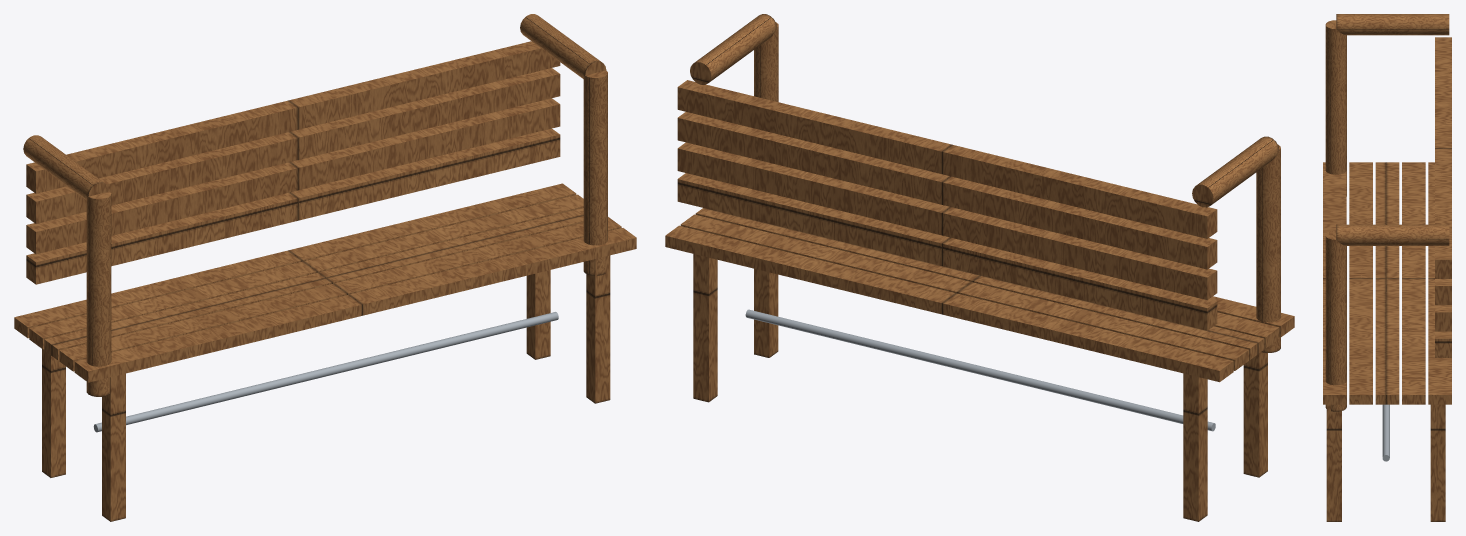
File: Kerti_pad_tamasztott.obj
3 views of the same model, side by side, from view 1: azimuth 30°, elevation 25°; view 2: azimuth 150°, elevation 25°; view 3: azimuth 270°, elevation 25° (orthographic). The views are drawn at different scales.
Bounding box in the file's own units: 1.8 × 1.05 × 0.4214.
Materials: 2 (1 with a texture image).
